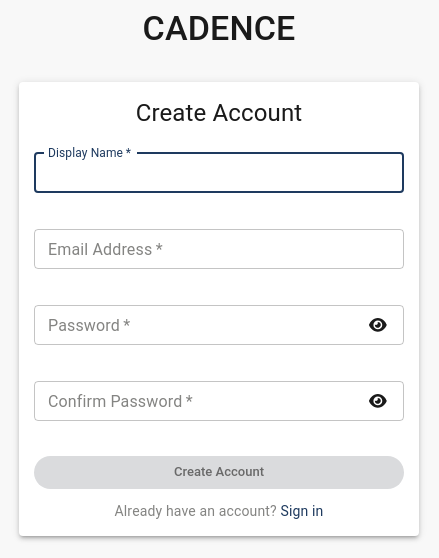
RegisterPage › validates password confirmation matches
Expected: the heading "Create Account" is shown, [136,99,302,127]
# Enter mismatched passwords
Type "Password123!" into the password field labelled "Password *" at (195, 325), box [34,305,355,345]
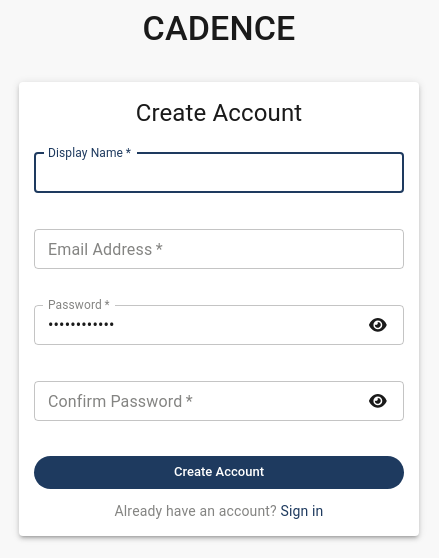
Type "DifferentPassword" into the password field labelled "Confirm Password *" at (195, 400), box [34,380,355,420]
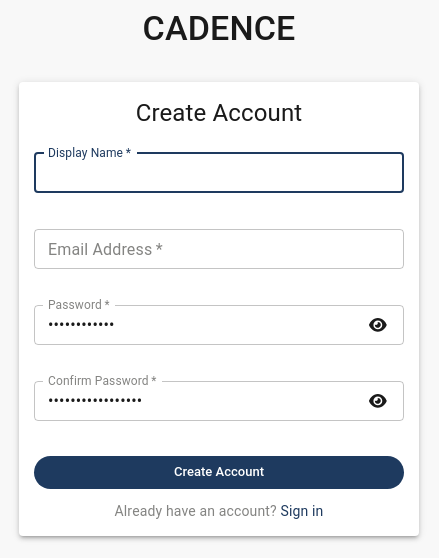
Leave the password field labelled "Confirm Password *", box [34,380,355,420]
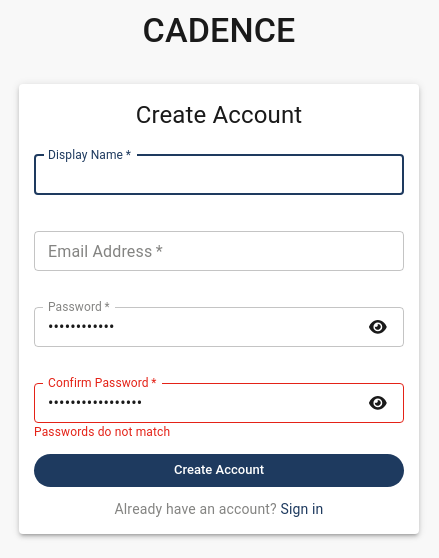
Expected: the text "Passwords do not match" is shown, [34,424,170,438]
